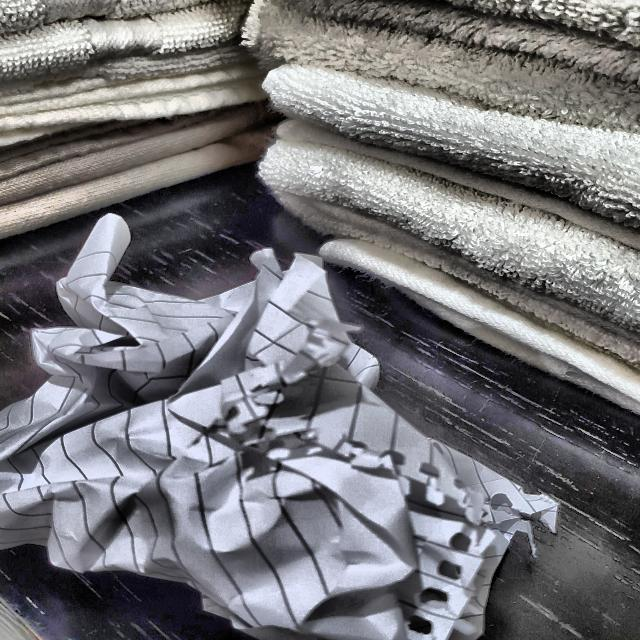paper: (0, 207, 531, 640)
